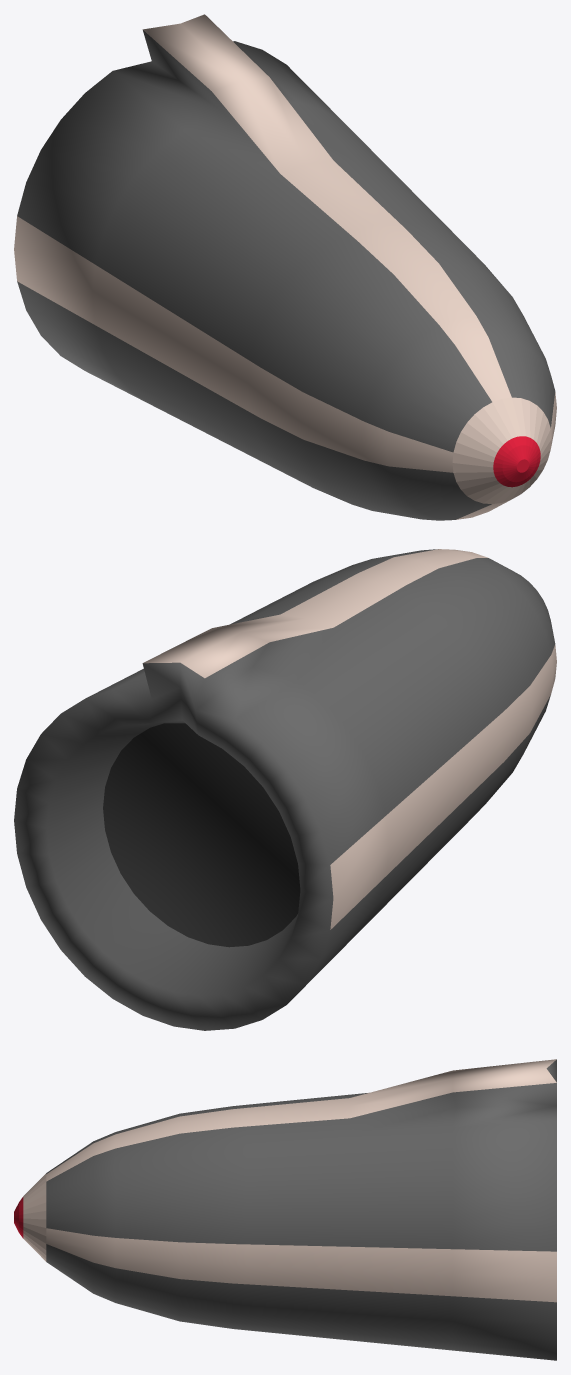
The model's file is missile.fbx.
The picture shows the model from 3 angles, top to bottom: view 1: azimuth 30°, elevation 25°; view 2: azimuth 150°, elevation 25°; view 3: azimuth 270°, elevation 25°; orthographic projection. The views are drawn at different scales.
Visible parts, largest first — view 1: Missile; view 2: Missile; view 3: Missile.
Part boxes in pixels (bbox=[...]): Missile: bbox=[14, 14, 556, 520]; Missile: bbox=[14, 549, 556, 1030]; Missile: bbox=[14, 1059, 556, 1360].
Size of the model in its own units: 127 by 137 by 241.
